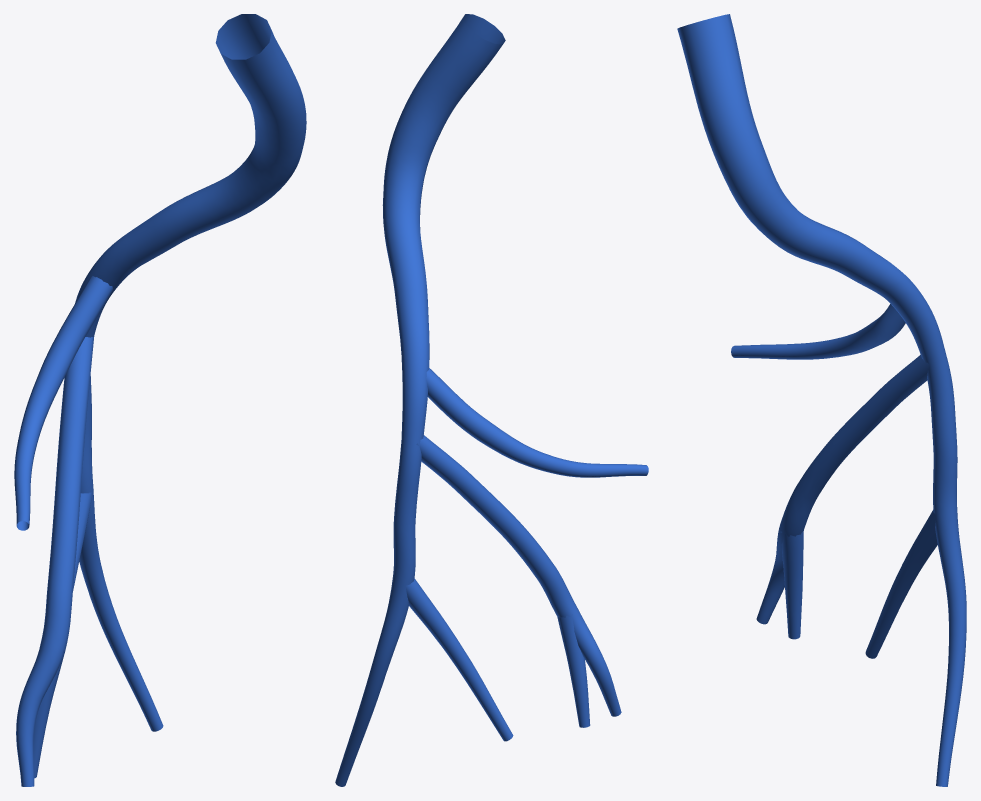
The model's file is circulatorio-posterior-basal-segmental-artery-of-left-lung.glb.
The picture shows the model from 3 angles, left to right: view 1: azimuth 30°, elevation 25°; view 2: azimuth 150°, elevation 25°; view 3: azimuth 270°, elevation 25°; orthographic projection. The views are drawn at different scales.
Parts seen in each view (by area): view 1: Posterior basal segmental artery of left lung; view 2: Posterior basal segmental artery of left lung; view 3: Posterior basal segmental artery of left lung.
Boxes of the visible parts, x1,y1,x2,y2 form: Posterior basal segmental artery of left lung: (14,14,306,786); Posterior basal segmental artery of left lung: (335,14,648,786); Posterior basal segmental artery of left lung: (677,14,966,786).
Bounding box in the file's own units: 0.0521 × 0.138 × 0.0476.
